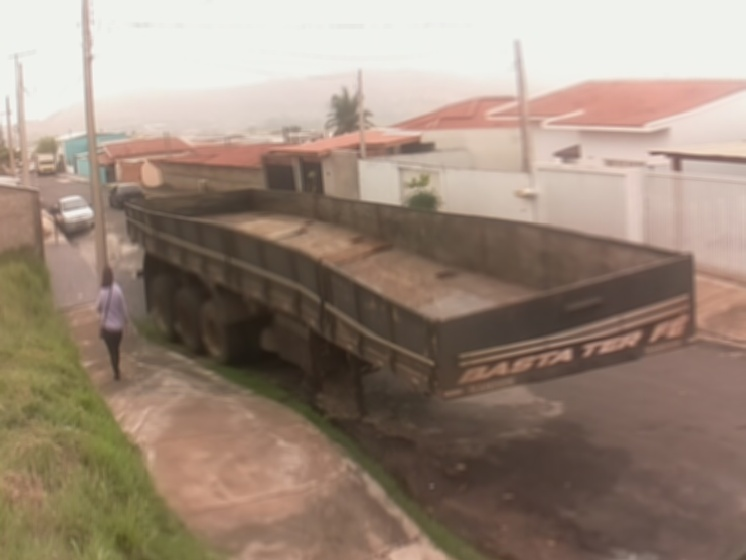person: (95, 265, 130, 380)
